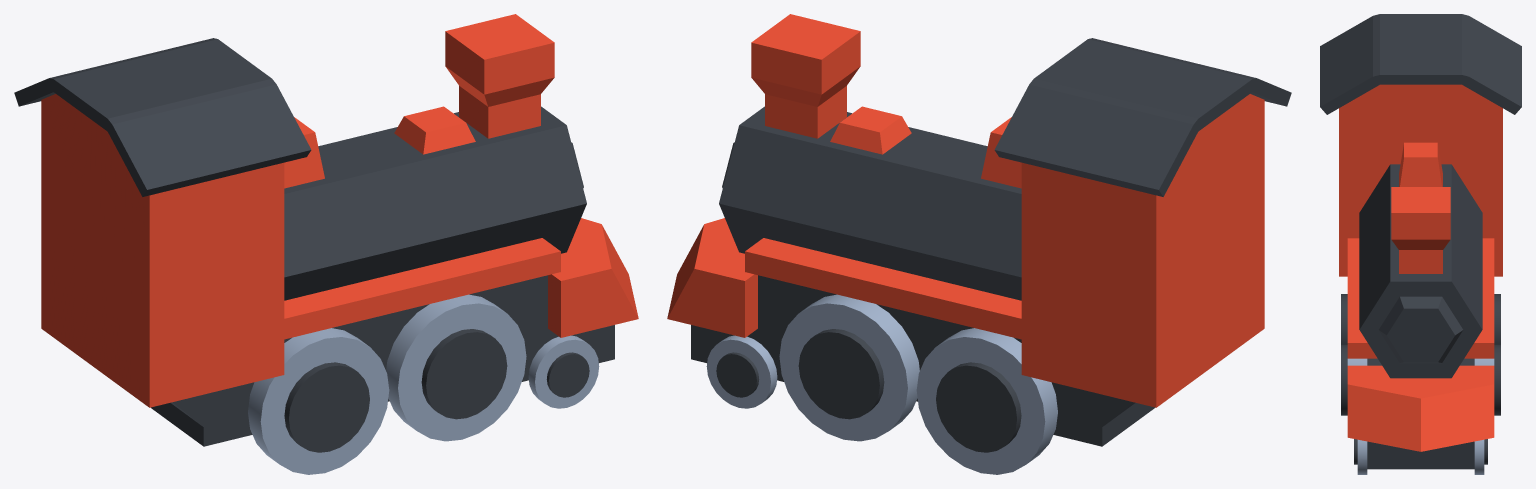
The model's file is trainLocomotive.fbx.
3 views of the same model, side by side, from view 1: azimuth 30°, elevation 25°; view 2: azimuth 150°, elevation 25°; view 3: azimuth 270°, elevation 25° (orthographic). The views are drawn at different scales.
Parts seen in each view (by area): view 1: trainLocomotive; view 2: trainLocomotive; view 3: trainLocomotive.
Part boxes in pixels (x1,y1,x2,y2): trainLocomotive: (14,14,638,474); trainLocomotive: (667,14,1291,474); trainLocomotive: (1320,14,1521,474).
Size of the model in its own units: 4.15 by 2.8 by 1.74.
